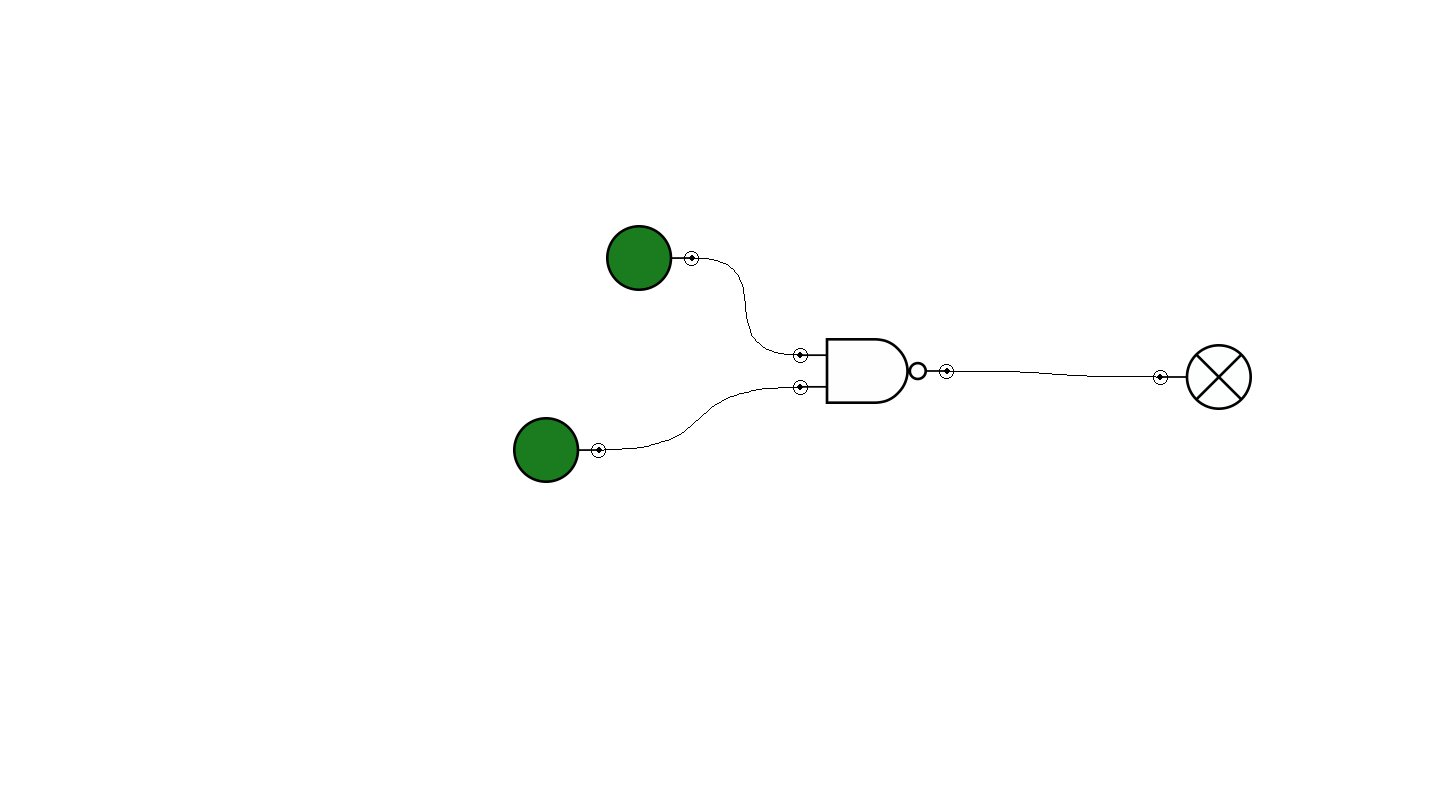bulb: (1153, 344, 1252, 410)
nand: (793, 338, 954, 404)
switch_True: (513, 417, 606, 483), (606, 225, 699, 291)
